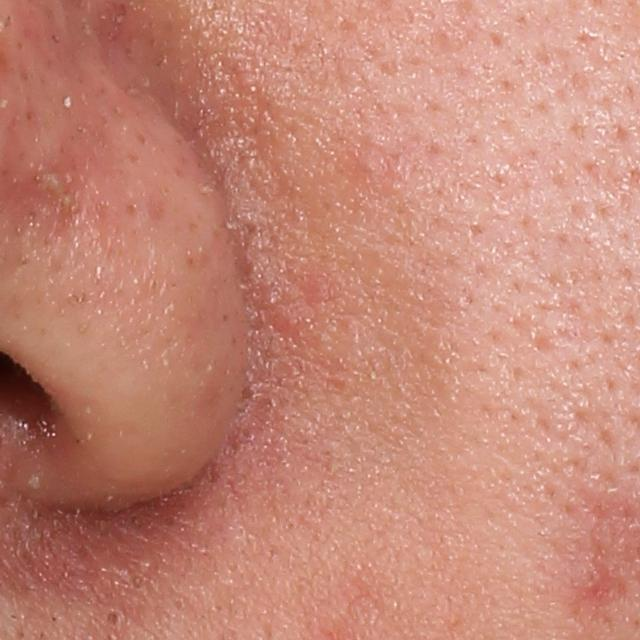comedo: (102, 601, 127, 634)
papule: (570, 559, 611, 594)
